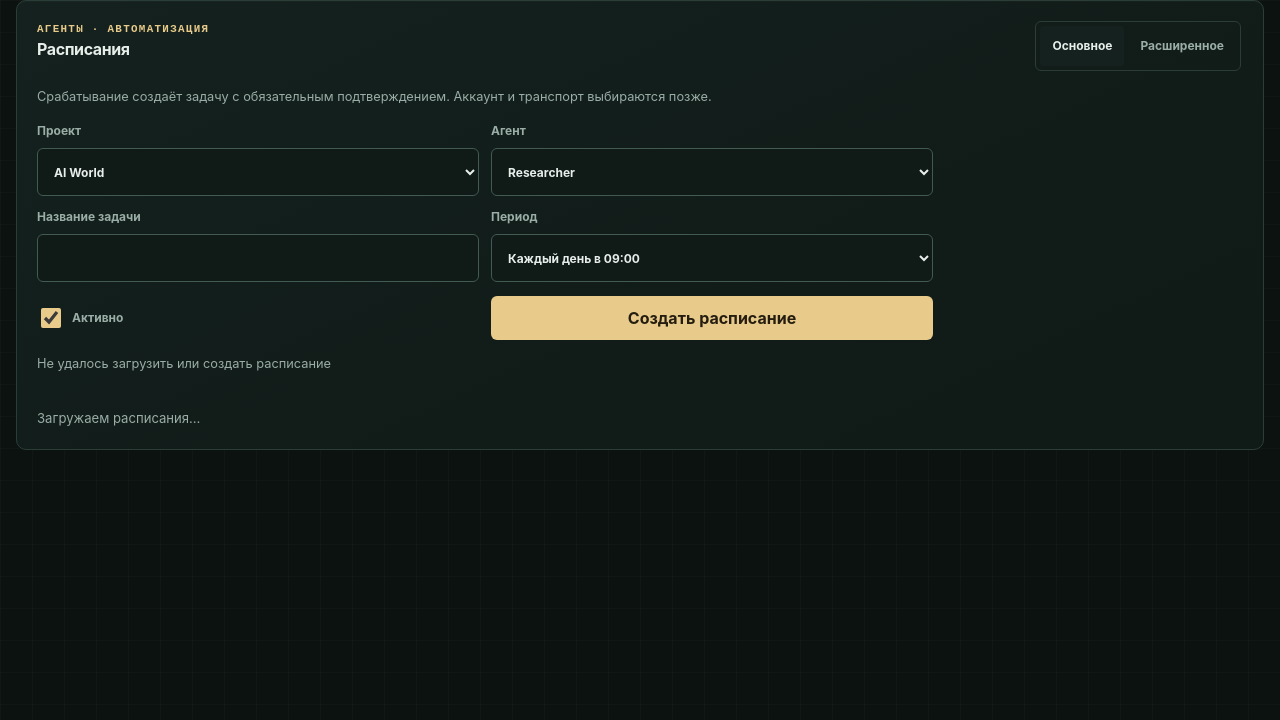
Scenario: SchedulePanel › reveals cron and timezone only in advanced mode and reports load failure
Expected: the field labelled "Cron (5 полей)" is not shown
Click the button "Расширенное".
click(1182, 46)  # box left=1128, top=26, right=1236, bottom=66
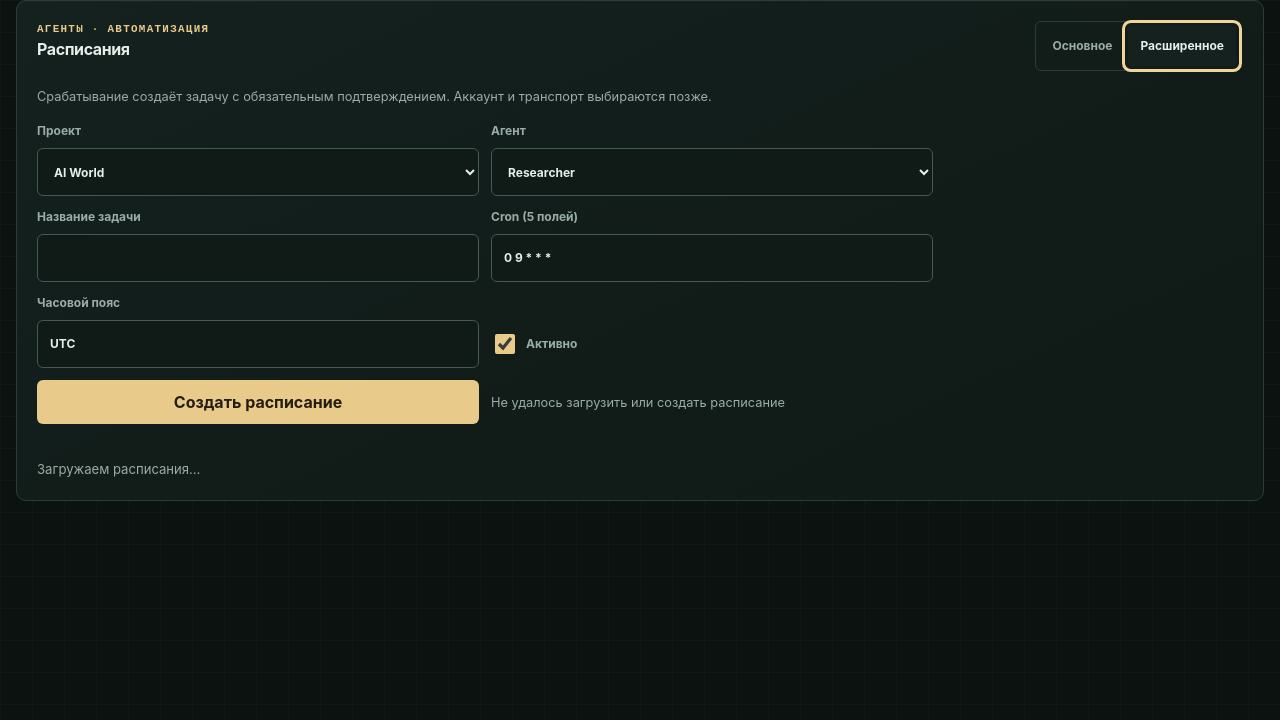
Expected: the text "Не удалось загрузить или создать расписание" is shown, left=491, top=395, right=785, bottom=410
Expected: the field labelled "Cron (5 полей)" is shown, left=491, top=234, right=933, bottom=282
Expected: the field labelled "Часовой пояс" is shown, left=37, top=320, right=479, bottom=368
